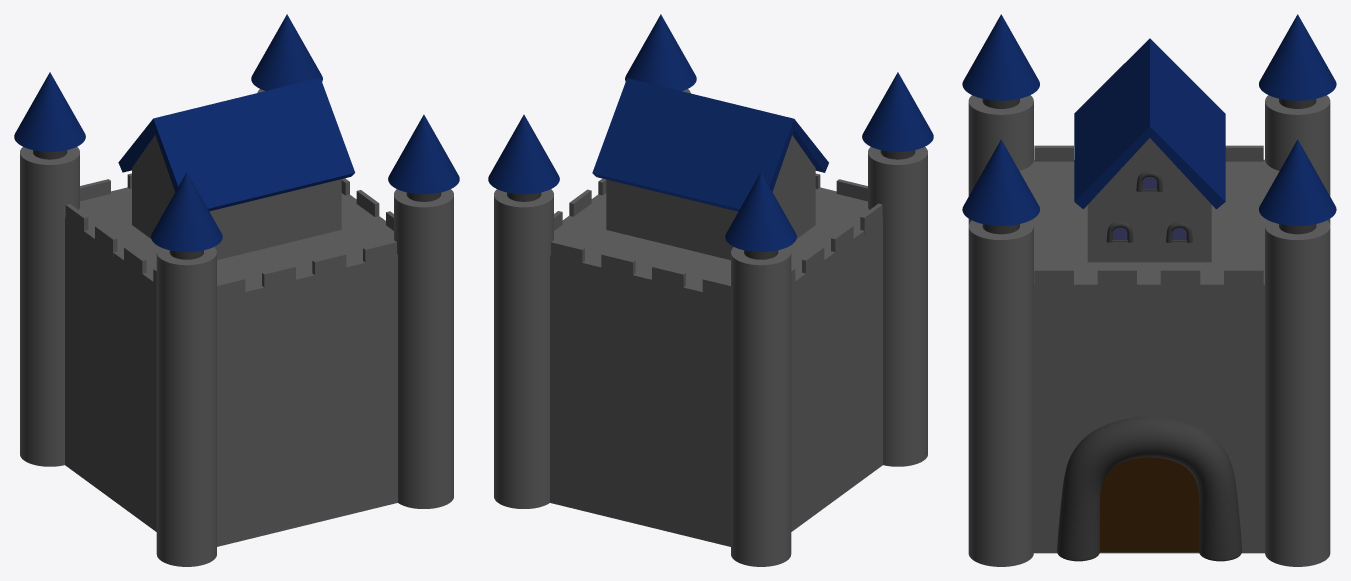
The model's file is Schloss5.fbx.
The picture shows the model from 3 angles, left to right: view 1: azimuth 30°, elevation 25°; view 2: azimuth 150°, elevation 25°; view 3: azimuth 270°, elevation 25°; orthographic projection. The views are drawn at different scales.
Parts seen in each view (by area): view 1: Grundstein, Turm3, Dach, Turm2, Turm4, Dach2, Cone.001, Cone.003, Cone.002, Cone, Deckung1, Deckung3 (+3 smaller); view 2: Grundstein, Turm4, Dach, Turm, Turm3, Dach2, Cone, Cone.002, Cone.003, Cone.001, Deckung2, Deckung3 (+3 smaller); view 3: Grundstein, Turm2, Turm, Dach, Tür1, Tür2, Dach2, Turm4, Turm3, Cone.003, Cone.002, Cone (+4 smaller).
Part boxes in pixels (x1,y1,x2,y2): Grundstein: (65, 187, 397, 546); Turm3: (156, 247, 216, 566); Dach: (118, 77, 355, 211); Turm2: (394, 189, 453, 508); Turm4: (20, 147, 79, 466); Dach2: (132, 162, 341, 259); Cone.001: (388, 114, 459, 194); Cone.003: (14, 72, 85, 151); Cone.002: (151, 172, 222, 251); Cone: (251, 14, 322, 90); Deckung1: (217, 240, 396, 298); Deckung3: (65, 204, 156, 288); Grundstein: (550, 187, 882, 546); Turm4: (731, 247, 791, 566); Dach: (592, 78, 828, 211); Turm: (494, 189, 553, 508); Turm3: (868, 147, 927, 466); Dach2: (606, 162, 815, 260); Cone: (488, 114, 559, 194); Cone.002: (862, 72, 933, 151); Cone.003: (725, 172, 796, 251); Cone.001: (625, 14, 696, 91); Deckung2: (551, 240, 730, 303); Deckung3: (791, 203, 882, 288); Grundstein: (1019, 159, 1279, 553); Turm2: (968, 220, 1033, 566); Turm: (1265, 220, 1330, 566); Dach: (1074, 38, 1225, 209); Tür1: (1057, 416, 1241, 561); Tür2: (1100, 457, 1199, 552); Dach2: (1087, 191, 1211, 262); Turm4: (1265, 95, 1330, 224); Turm3: (968, 95, 1033, 224); Cone.003: (1259, 14, 1336, 100); Cone.002: (962, 14, 1039, 100); Cone: (1259, 139, 1336, 225).
Bounding box in the file's own units: 253 × 308 × 253.
